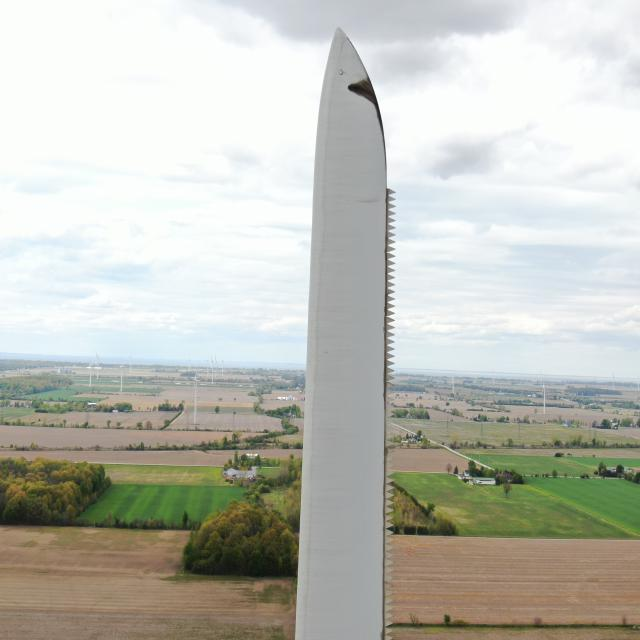damage: (346, 73, 386, 119)
